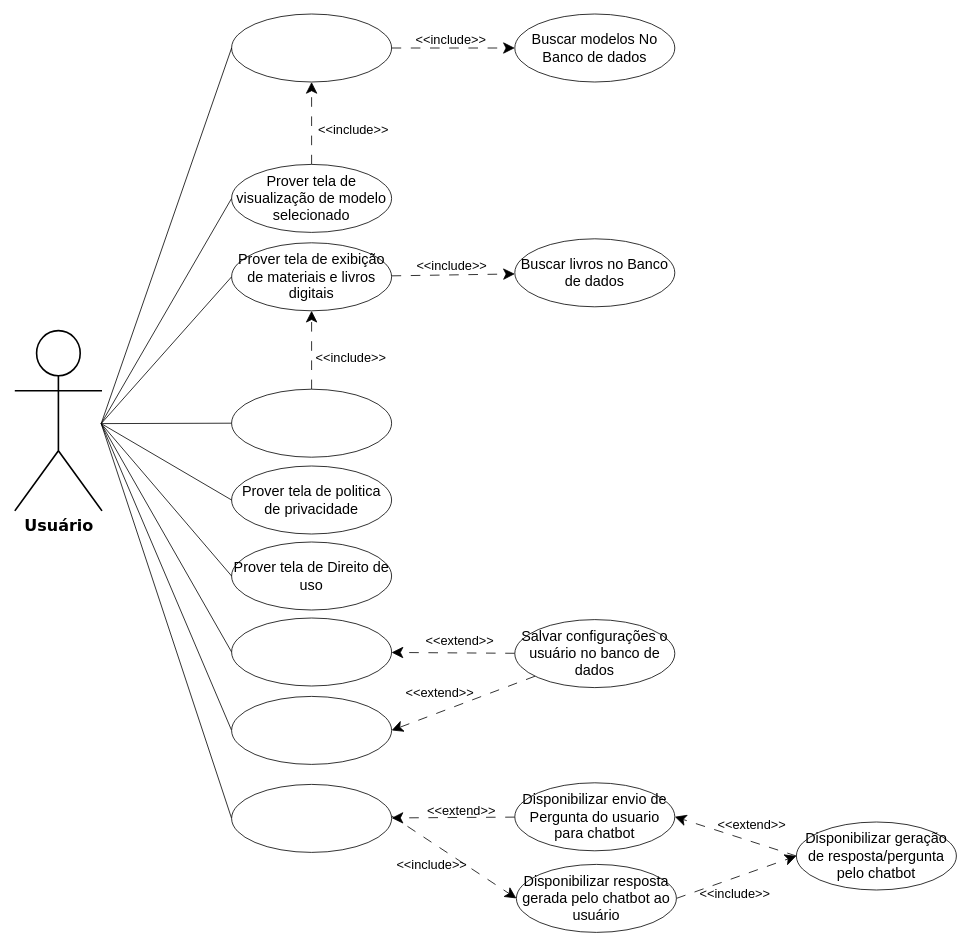
Image size: 970x946. Some labels were removed from this diagram. The shapes that lost their labels are listed below. From the top down, each one's centre as x and y in pixels, then its label:
pixel 311 47: Prover tela de exibição de Modelos de Redação
pixel 311 422: Prover tela de visualização de livro selecionado
pixel 311 651: Prover tela de perfil do usuário
pixel 311 730: Prover tela de configuração do sistema
pixel 311 818: Prover tela de chatbot de suporte para dúvidas sobre redação
